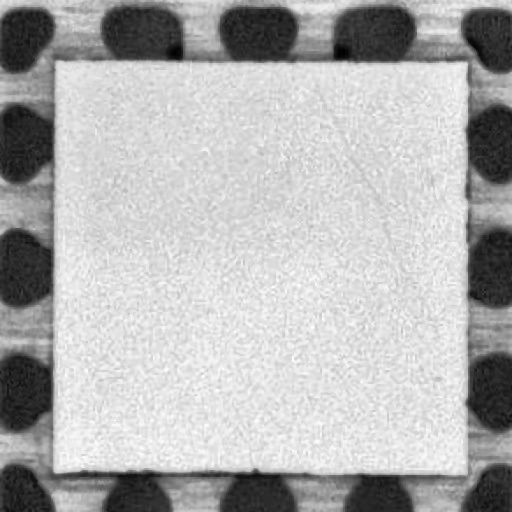DIE_CRACK: (302, 65, 412, 282)
